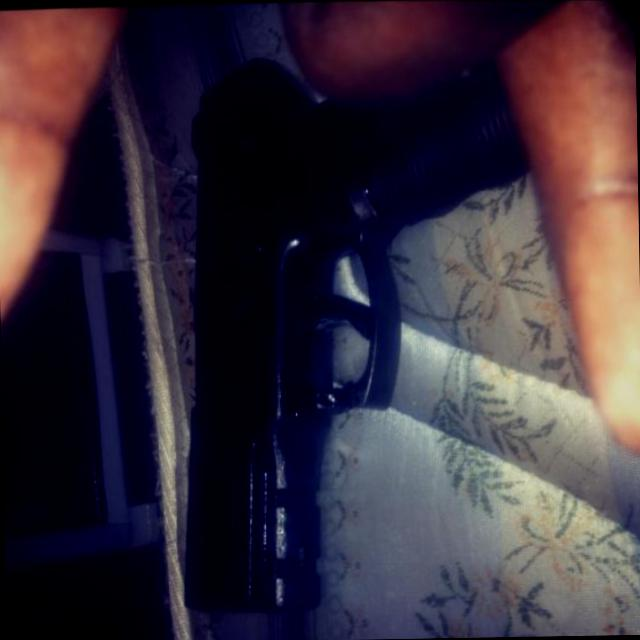handgun: (172, 43, 544, 614)
